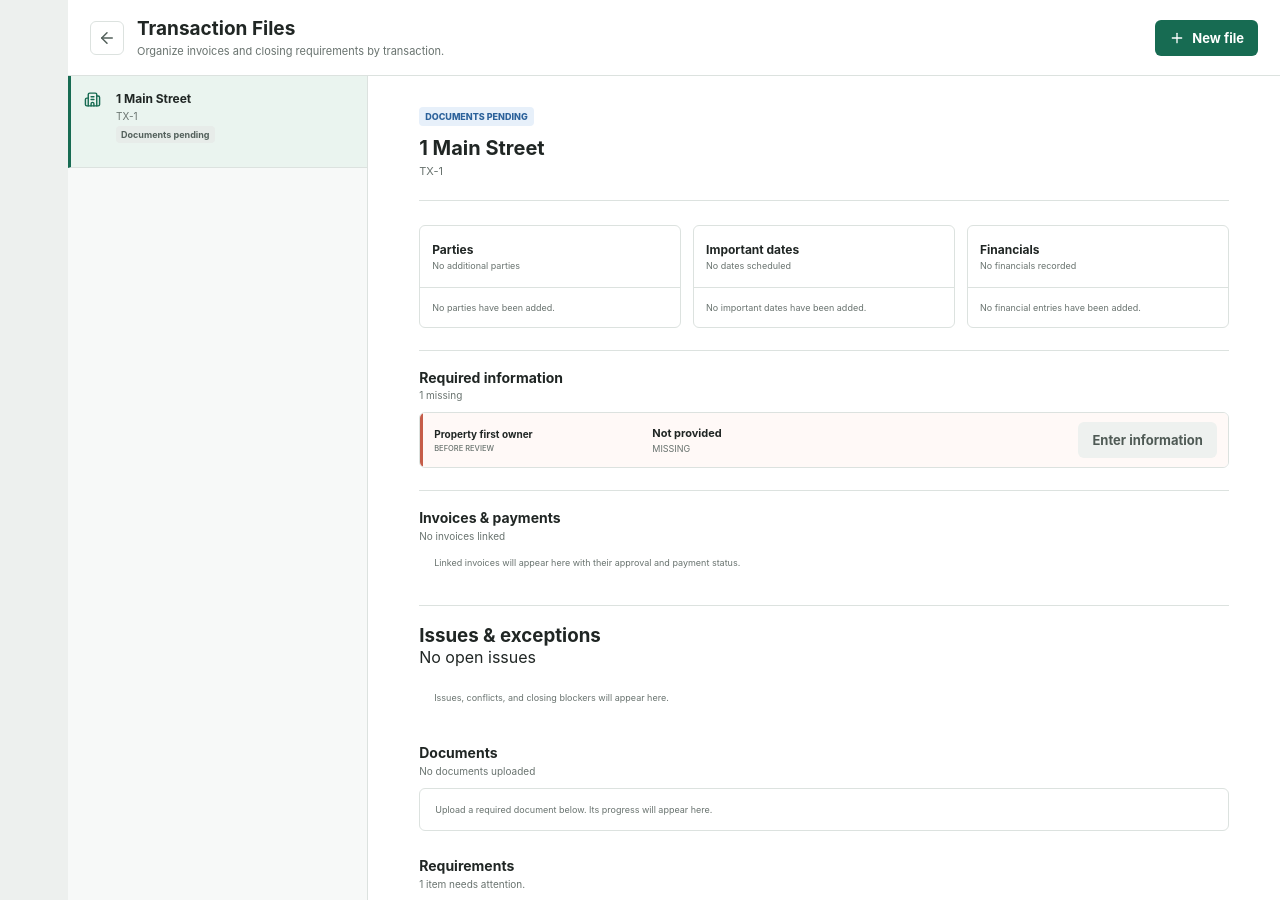
Test: Transaction workspace › captures the actual value for required information instead of only changing its status
The width and height of the screenshot is (1280, 900).
Click the button "Enter information" at (1148, 440), box [1078,422,1217,458]
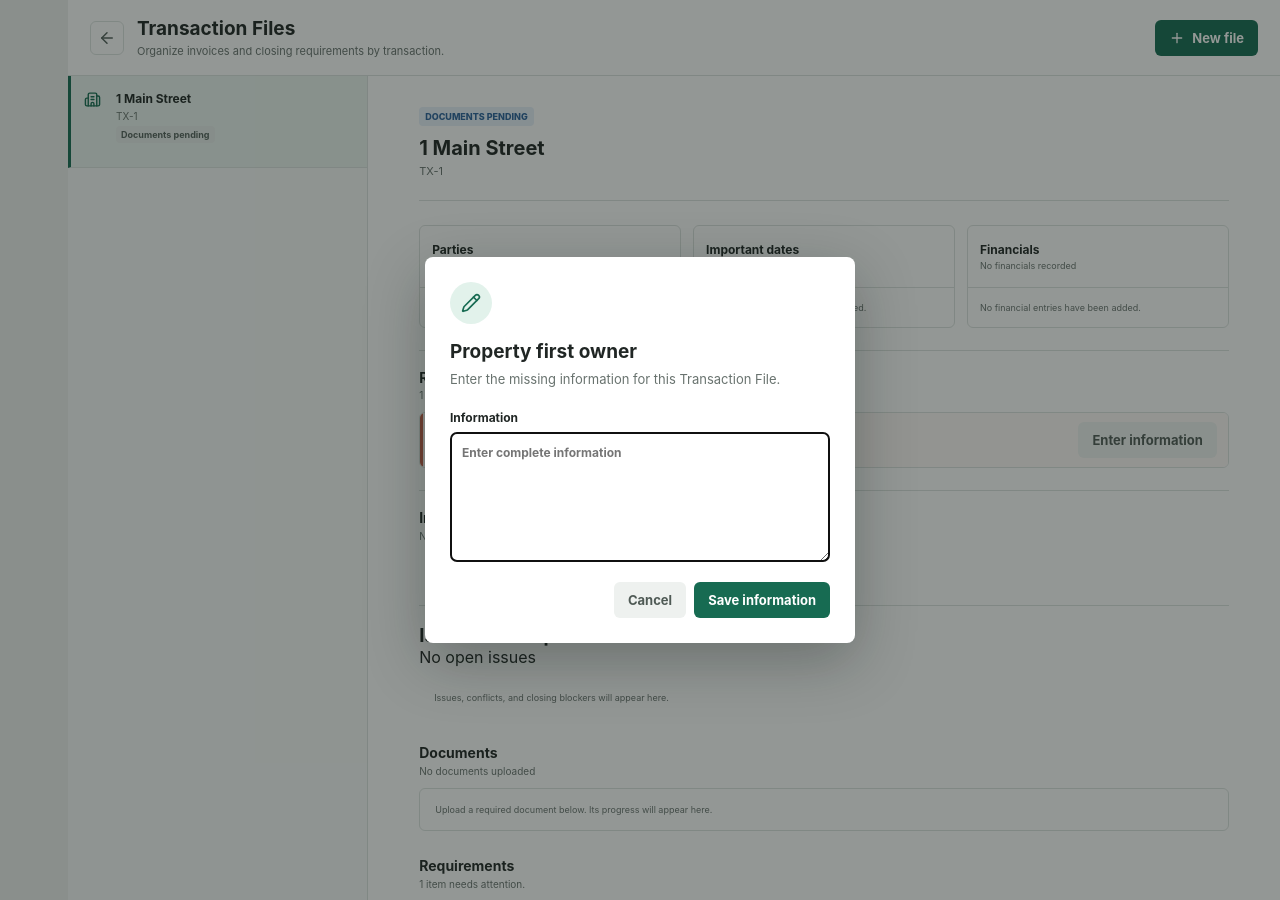
Result: the dialog "Property first owner" is shown at [425,257,855,643]
Type "Jordan Lee" into the text box named "Property first owner information" at (640, 497), box [450,432,830,562]
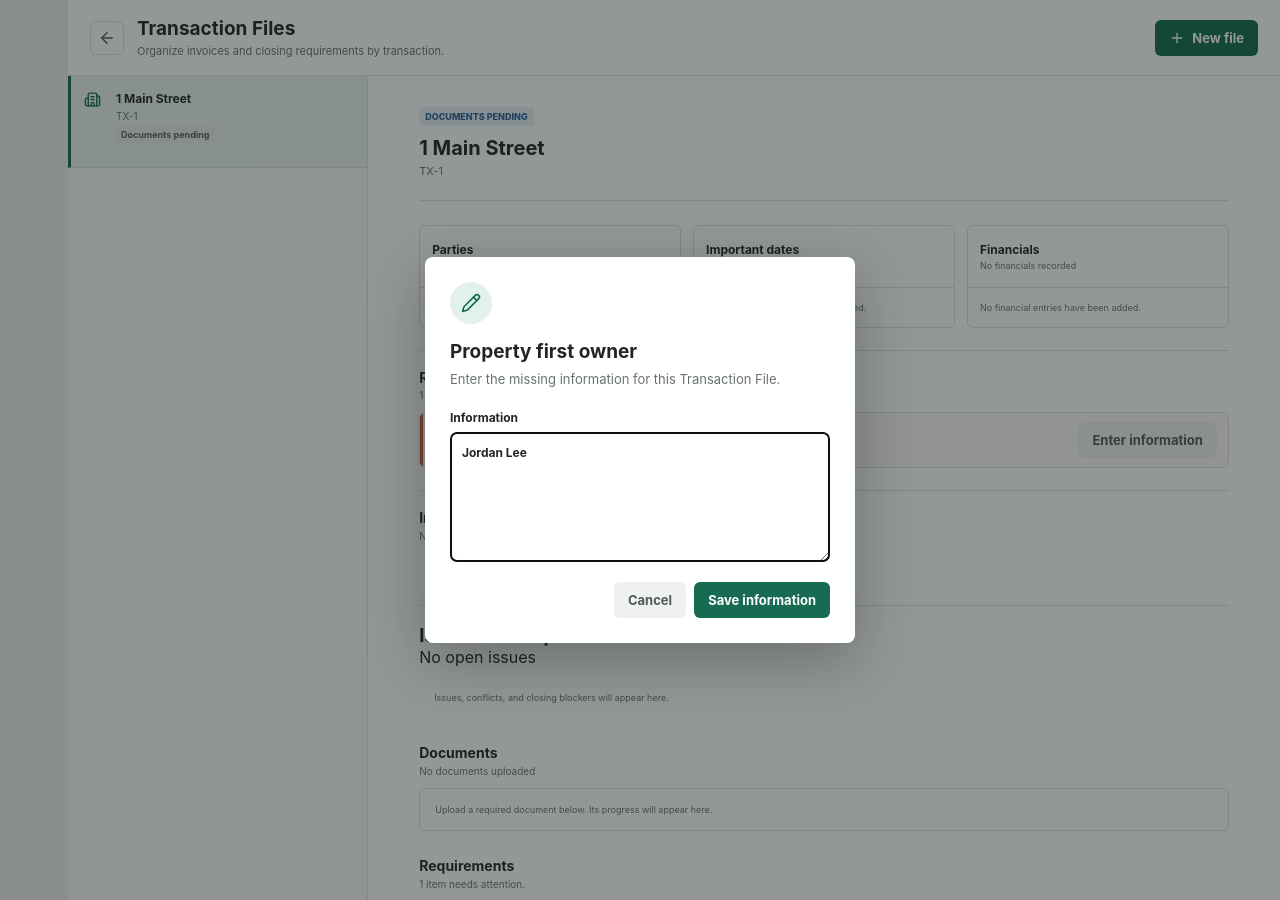
Click the button "Save information" at (762, 600), box [694,582,830,618]
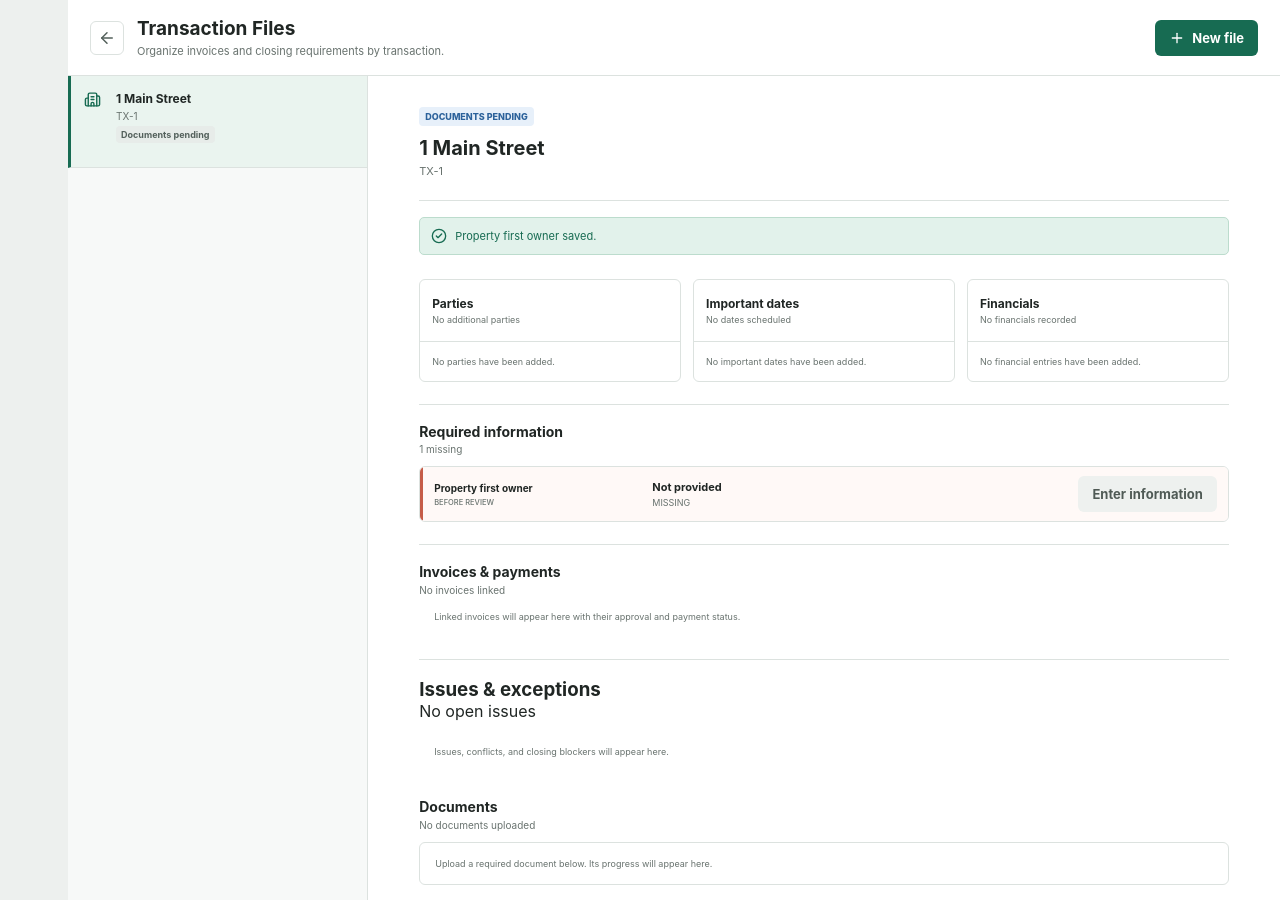
Result: the text "Property first owner saved." is shown at [455,229,596,243]
